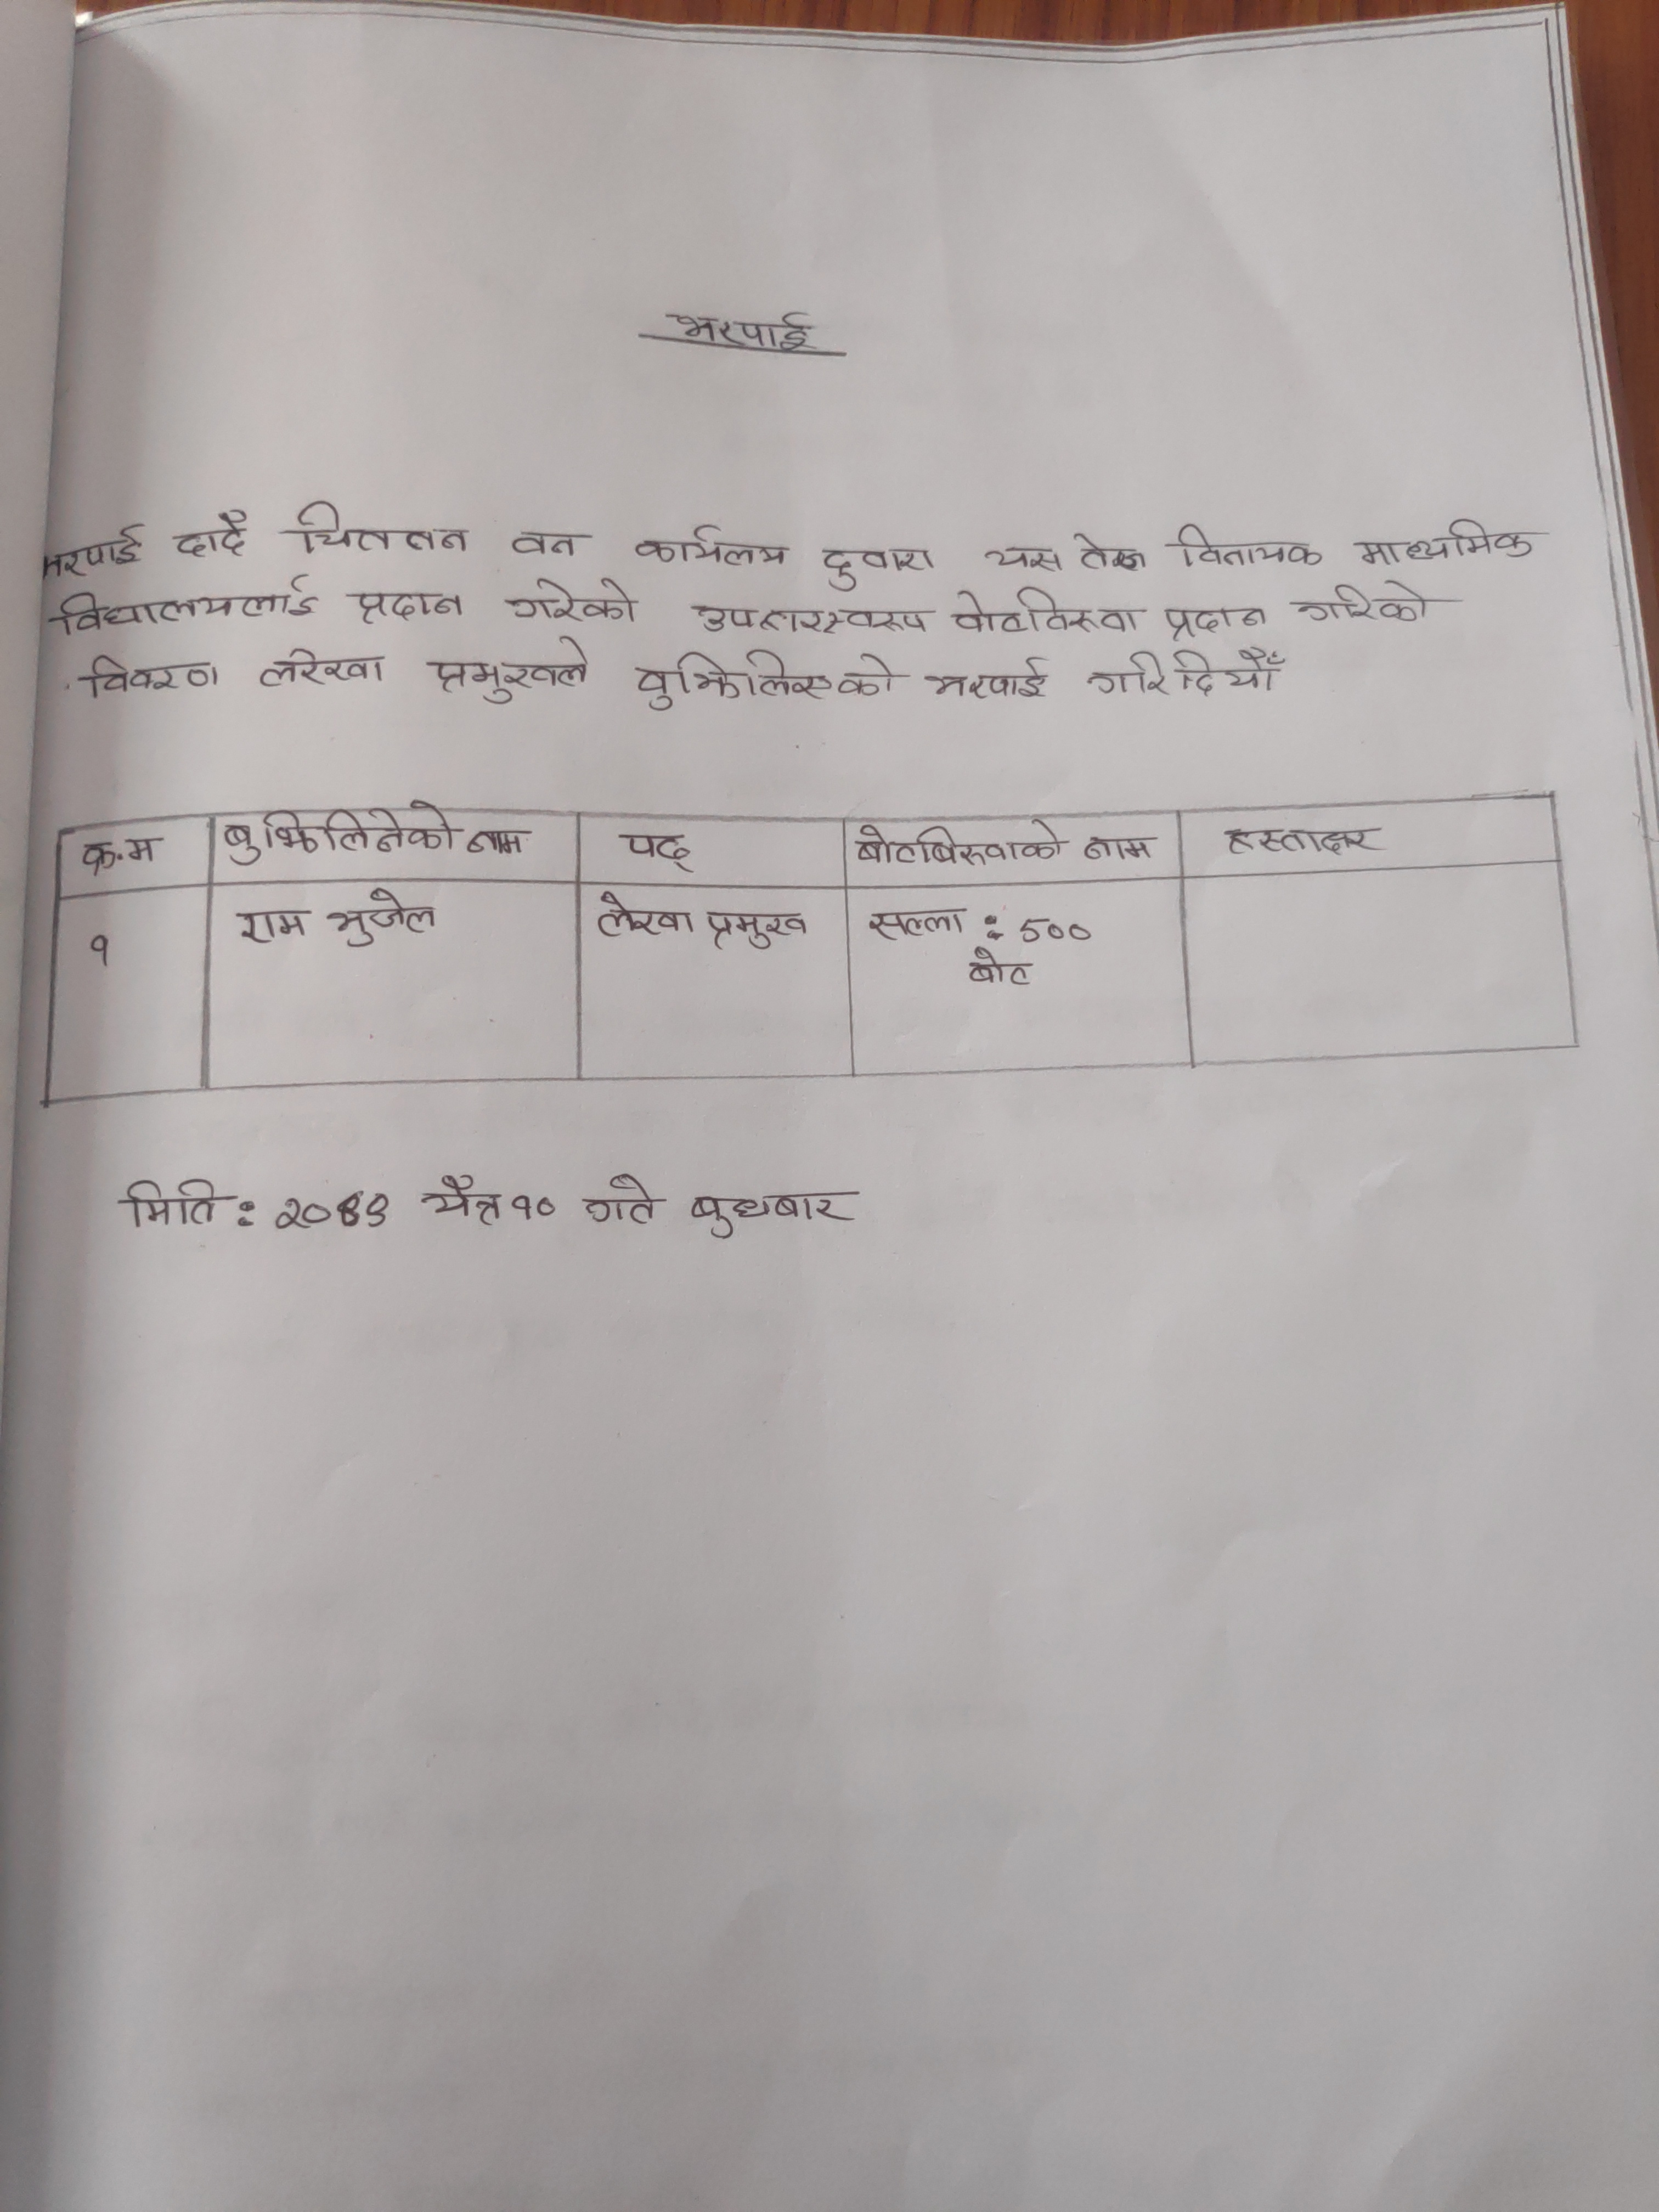text: (629, 650, 903, 712), (218, 808, 462, 860), (52, 589, 329, 634), (676, 594, 932, 639), (282, 503, 476, 563), (1349, 512, 1539, 571), (856, 822, 1066, 874), (429, 637, 592, 702), (945, 589, 1143, 641), (1089, 648, 1283, 700), (659, 303, 819, 361), (688, 1190, 854, 1244), (321, 885, 448, 954), (627, 526, 796, 575), (249, 641, 399, 693), (502, 573, 640, 629), (1175, 519, 1324, 568), (37, 524, 153, 585), (347, 577, 471, 634), (1290, 580, 1445, 625), (922, 651, 1054, 704), (84, 651, 223, 700), (819, 543, 939, 597), (115, 1174, 225, 1231), (580, 888, 697, 942), (1222, 819, 1382, 857), (699, 900, 816, 951), (1161, 592, 1276, 641), (270, 1195, 392, 1238), (575, 1172, 660, 1233), (857, 904, 971, 949), (164, 514, 254, 564), (418, 1174, 502, 1226), (228, 906, 315, 954), (1073, 526, 1154, 577), (972, 543, 1068, 583), (620, 831, 697, 874), (70, 840, 164, 874), (958, 949, 1037, 991), (1080, 831, 1162, 869), (509, 528, 589, 561), (467, 822, 532, 860), (89, 928, 113, 972)
